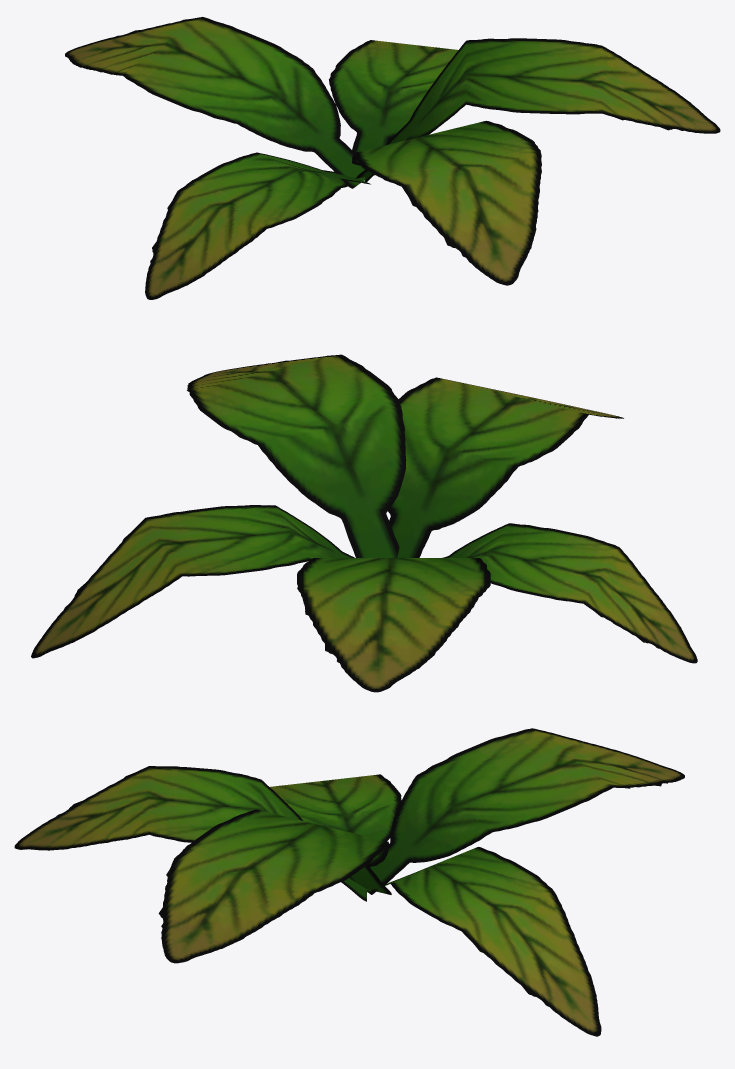
The model's file is grass_05.FBX.
3 views of the same model, one above another, from view 1: azimuth 30°, elevation 25°; view 2: azimuth 150°, elevation 25°; view 3: azimuth 270°, elevation 25° (orthographic). The views are drawn at different scales.
Parts seen in each view (by area): view 1: grass_05; view 2: grass_05; view 3: grass_05.
Boxes of the visible parts, box(x1,y1,x2,y2) form: grass_05: box(65, 17, 720, 299); grass_05: box(31, 354, 697, 692); grass_05: box(14, 728, 684, 1036).
Size of the model in its own units: 225 by 54.34 by 241.
